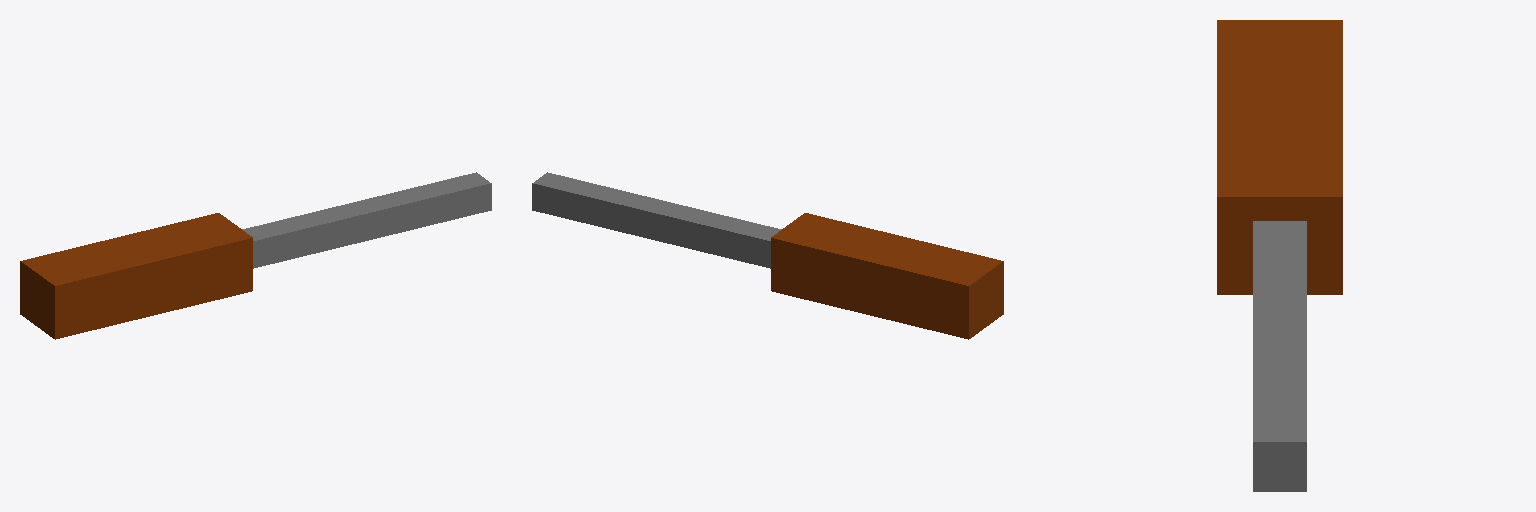
URDF robot description (handle_head):
<?xml version="1.0"?>
<robot name="handle_head">

  <link name="handle_head">
    <!-- Handle -->
    <visual>
              <origin xyz="0 0 0" rpy="0 0 0"/>
        <geometry>
          <box size="0.09826290918118377 0.029466683076806565 0.025324919631520264"/>
        </geometry>
        
      <material name="brown">
        <color rgba="0.55 0.27 0.07 1.0"/>
      </material>
    </visual>
    <collision>
              <origin xyz="0 0 0" rpy="0 0 0"/>
        <geometry>
          <box size="0.09826290918118377 0.029466683076806565 0.025324919631520264"/>
        </geometry>
        
    </collision>

    <!-- Head -->
    <visual>
              <origin xyz="0.11053086253361452 0 0" rpy="0 0 0"/>
        <geometry>
          <box size="0.12279881588604528 0.012837769046061157 0.012915740576297881"/>
        </geometry>
        
      <material name="gray">
        <color rgba="0.5 0.5 0.5 1.0"/>
      </material>
    </visual>
    <collision>
              <origin xyz="0.11053086253361452 0 0" rpy="0 0 0"/>
        <geometry>
          <box size="0.12279881588604528 0.012837769046061157 0.012915740576297881"/>
        </geometry>
        
    </collision>

    <inertial>
      <origin xyz="0.05146269719878447 0 0" rpy="0 0 0"/>
      <mass value="0.08000910005744151"/>
      <inertia ixx="6.4084587173509425e-06" iyy="0.00032723096831922967" izz="0.000328033322831128" ixy="0" ixz="0" iyz="0"/>
    </inertial>
  </link>

</robot>

--- Facts derived from the render (not from the file) ---
3 views of the same robot in one strip: view 1: azimuth 30°, elevation 25°; view 2: azimuth 150°, elevation 25°; view 3: azimuth 270°, elevation 25° (orthographic).
Robot: handle_head — 1 links, 0 joints (none); root link handle_head; default pose: all joints at 0.
Visible links, largest first — view 1: handle_head; view 2: handle_head; view 3: handle_head.
Boxes of the visible links, left/top/right/bottom form: handle_head: left=20, top=172, right=491, bottom=339; handle_head: left=532, top=172, right=1003, bottom=339; handle_head: left=1217, top=20, right=1342, bottom=491.
Size in the robot's own frame: 0.2211 by 0.0295 by 0.0253 metres.
Geometry: primitives only (box / cylinder / sphere), no mesh files.
